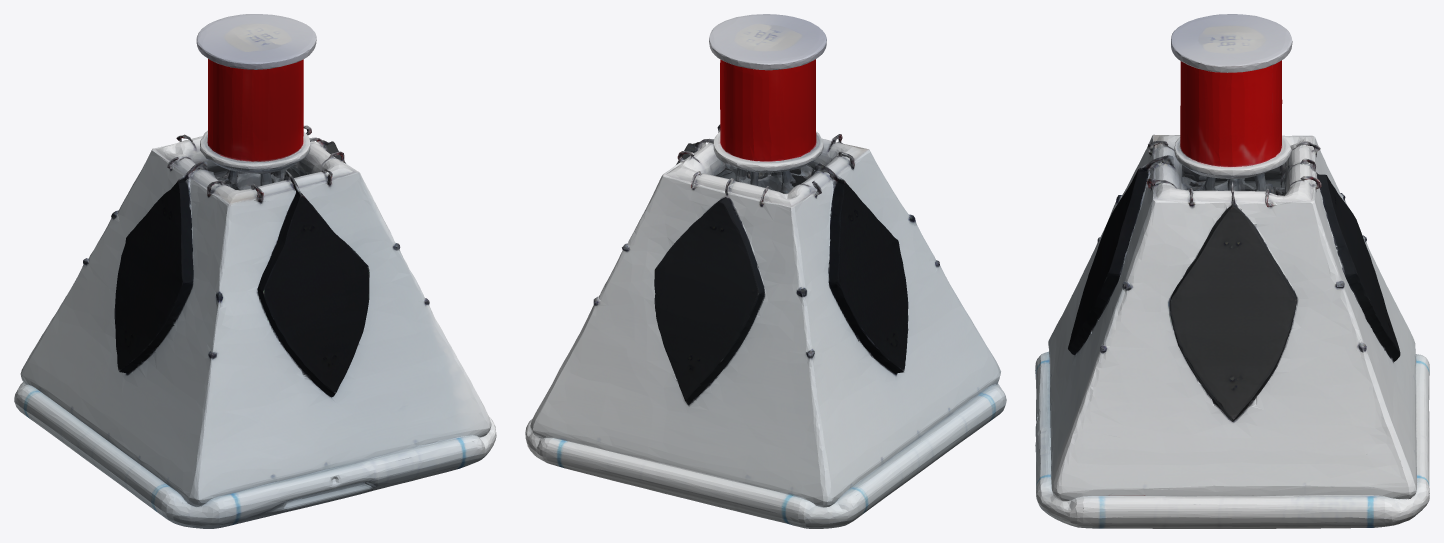
File: bouy_red.glb
3 views of the same model, side by side, from view 1: azimuth 30°, elevation 25°; view 2: azimuth 150°, elevation 25°; view 3: azimuth 270°, elevation 25° (orthographic). The views are drawn at different scales.
Parts seen in each view (by area): view 1: world; view 2: world; view 3: world.
Boxes of the visible parts, x1,y1,x2,y2 form: world: (14,14,496,528); world: (525,14,1006,528); world: (1035,14,1429,528).
Bounding box in the file's own units: 0.8707 × 0.998 × 0.861.
1 material, 1 textured.
